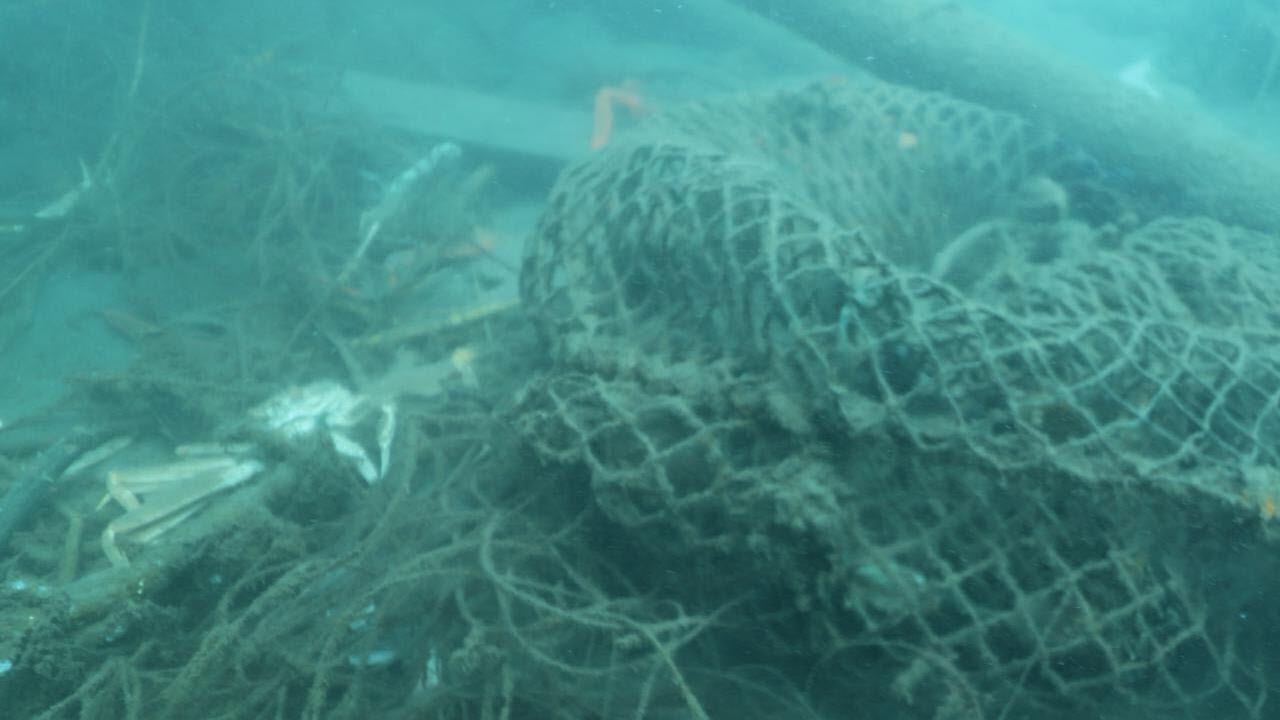fish net: (512, 82, 1280, 720)
